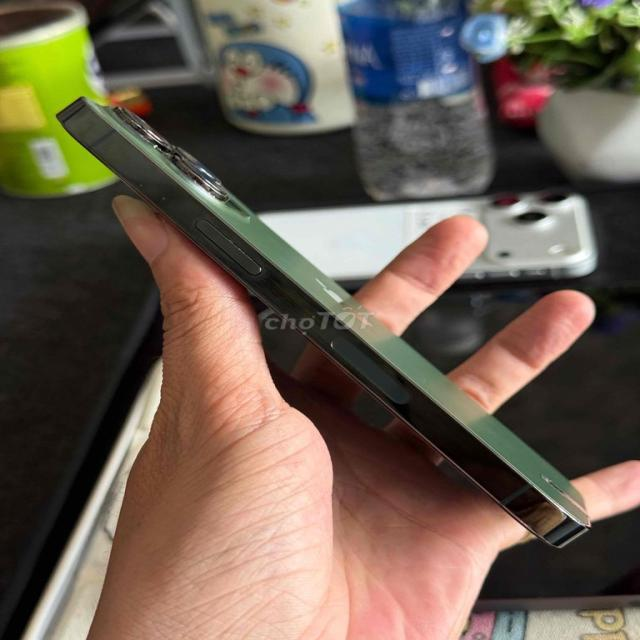scratch: (131, 176, 178, 208)
